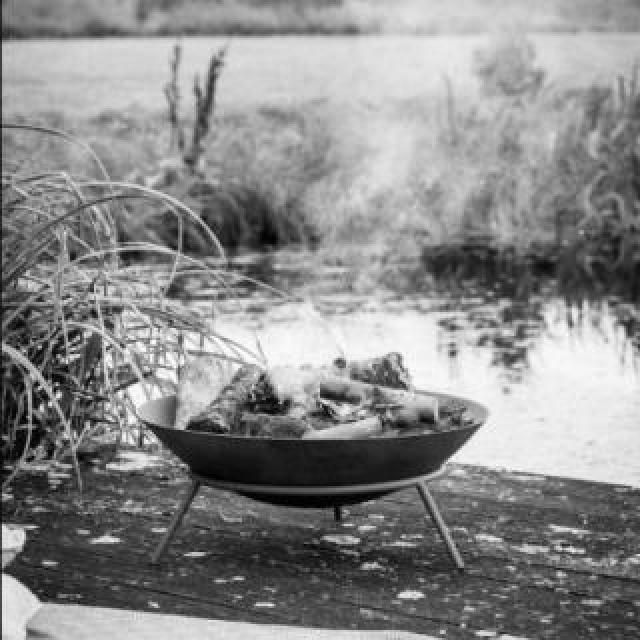Fire: (314, 382, 388, 434)
Smoke: (267, 3, 627, 351)
